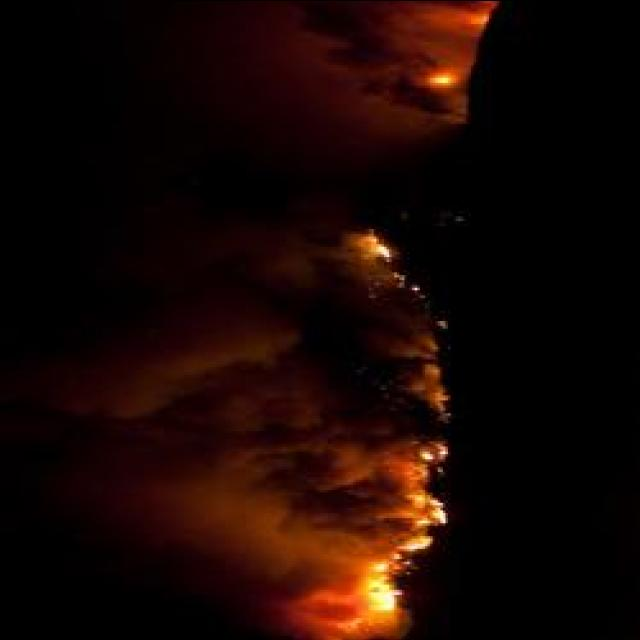fire: (362, 558, 402, 616), (370, 242, 396, 262), (429, 506, 454, 526)
smoke: (210, 496, 380, 602), (166, 296, 316, 413), (234, 397, 373, 507), (230, 200, 344, 320), (298, 1, 411, 110), (336, 380, 408, 524), (261, 579, 357, 640), (384, 0, 482, 48)
